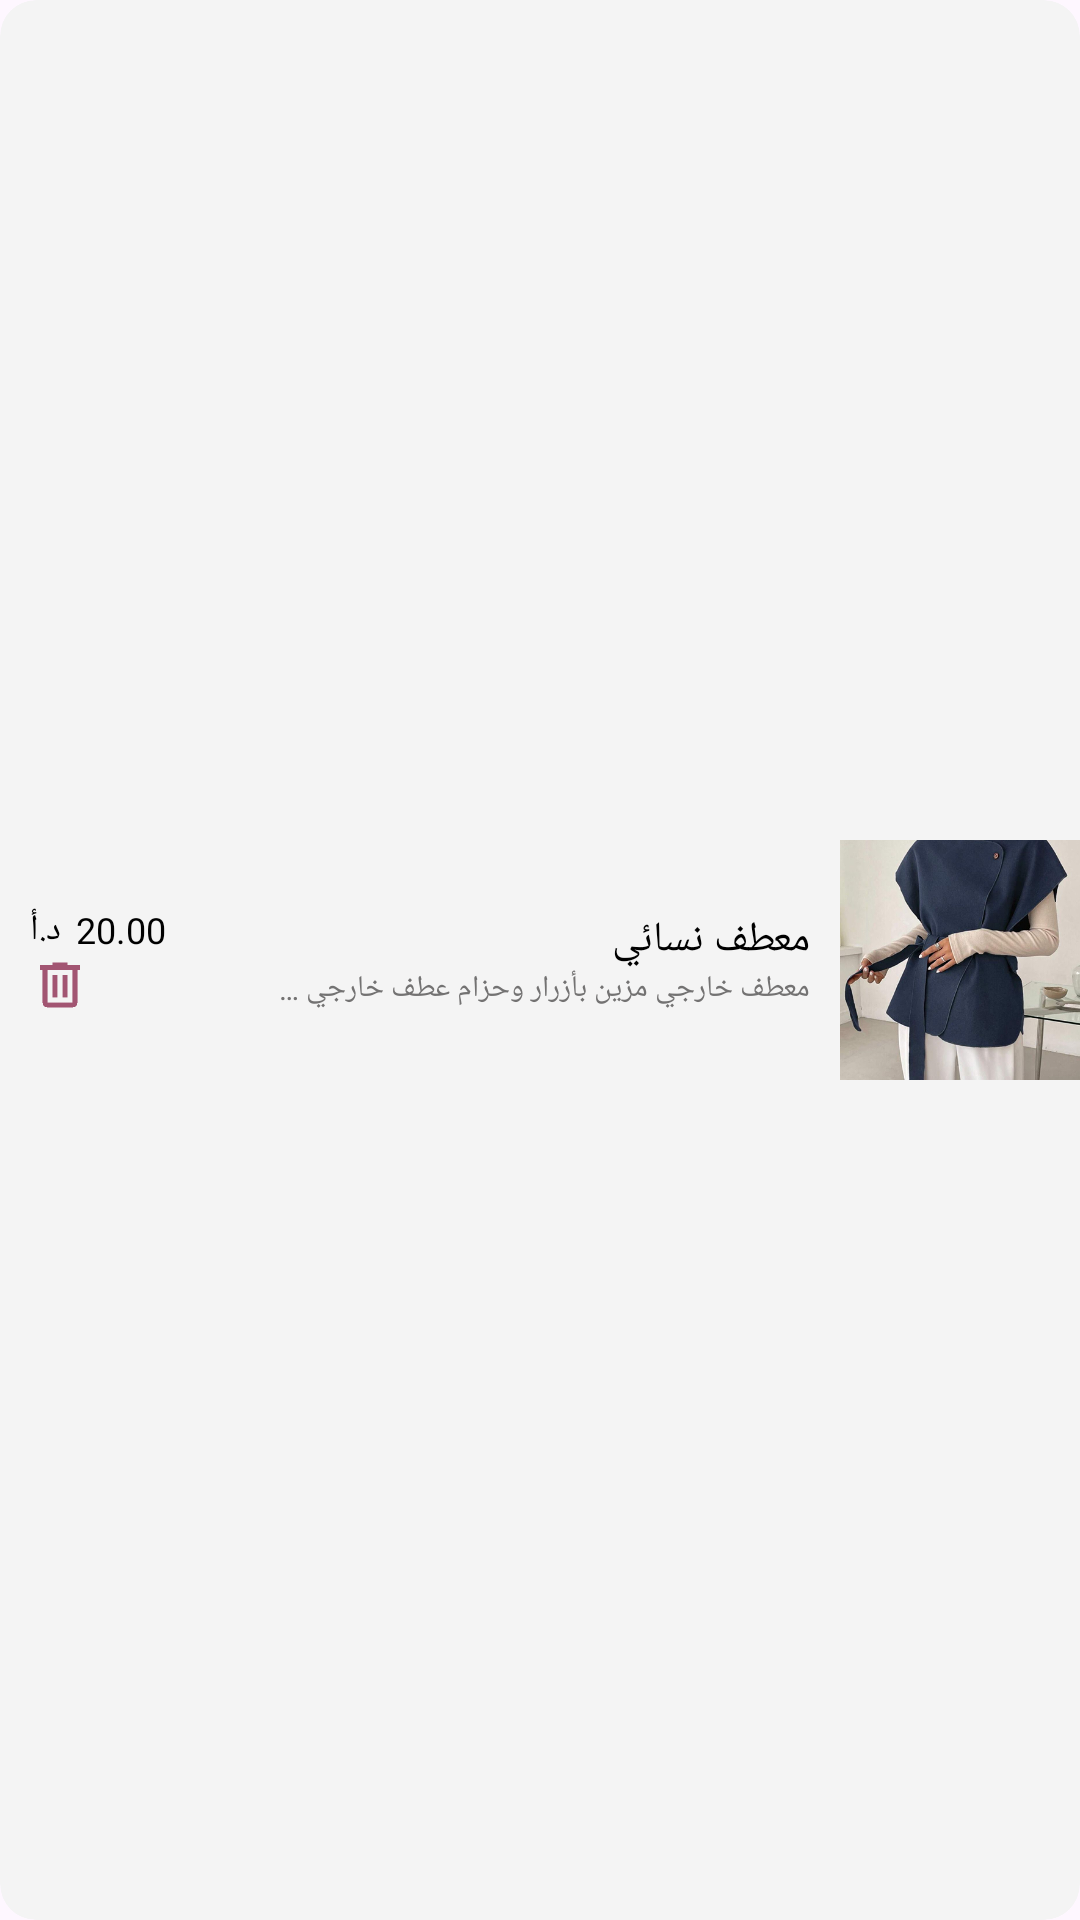

Screen size 1080×1920. Icon name, then its box in pixels as (x1, y1, x2, y2):
delete: (40, 962, 80, 1008)
product: (840, 840, 1080, 1080)
